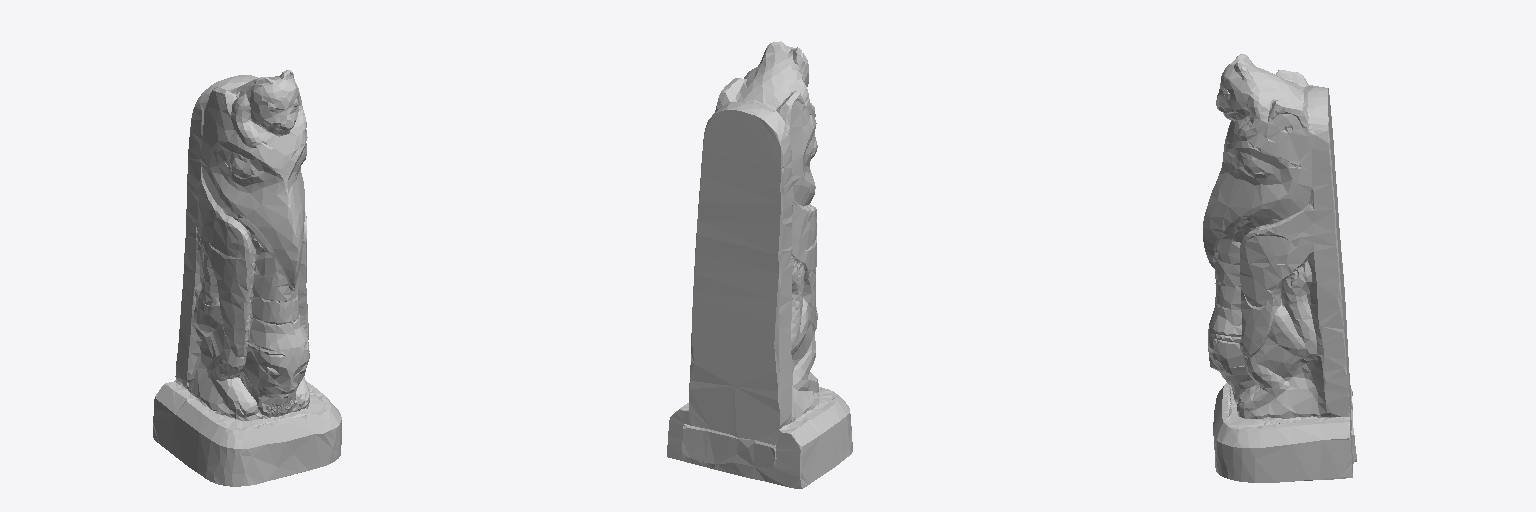
The model's file is nrcc_totem.obj.
The picture shows the model from 3 angles: view 1: azimuth 30°, elevation 25°; view 2: azimuth 150°, elevation 25°; view 3: azimuth 270°, elevation 25°; orthographic projection.
Bounding box in the file's own units: 0.7306 × 2 × 0.7115.